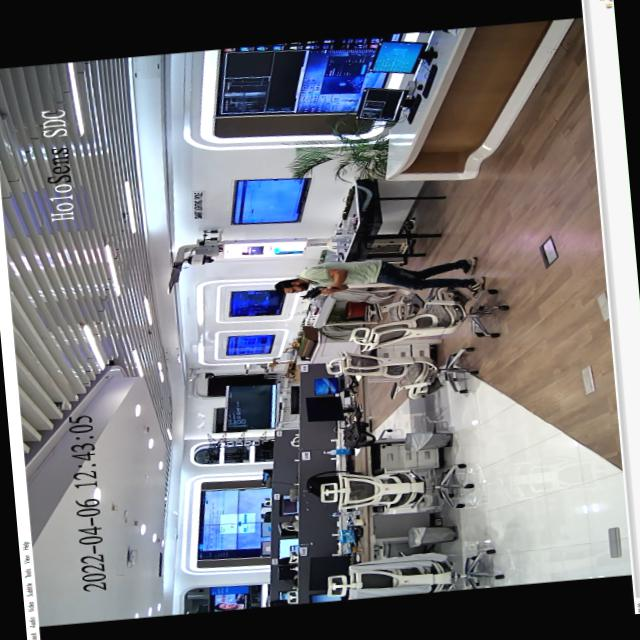long weapon: (296, 282, 335, 301)
